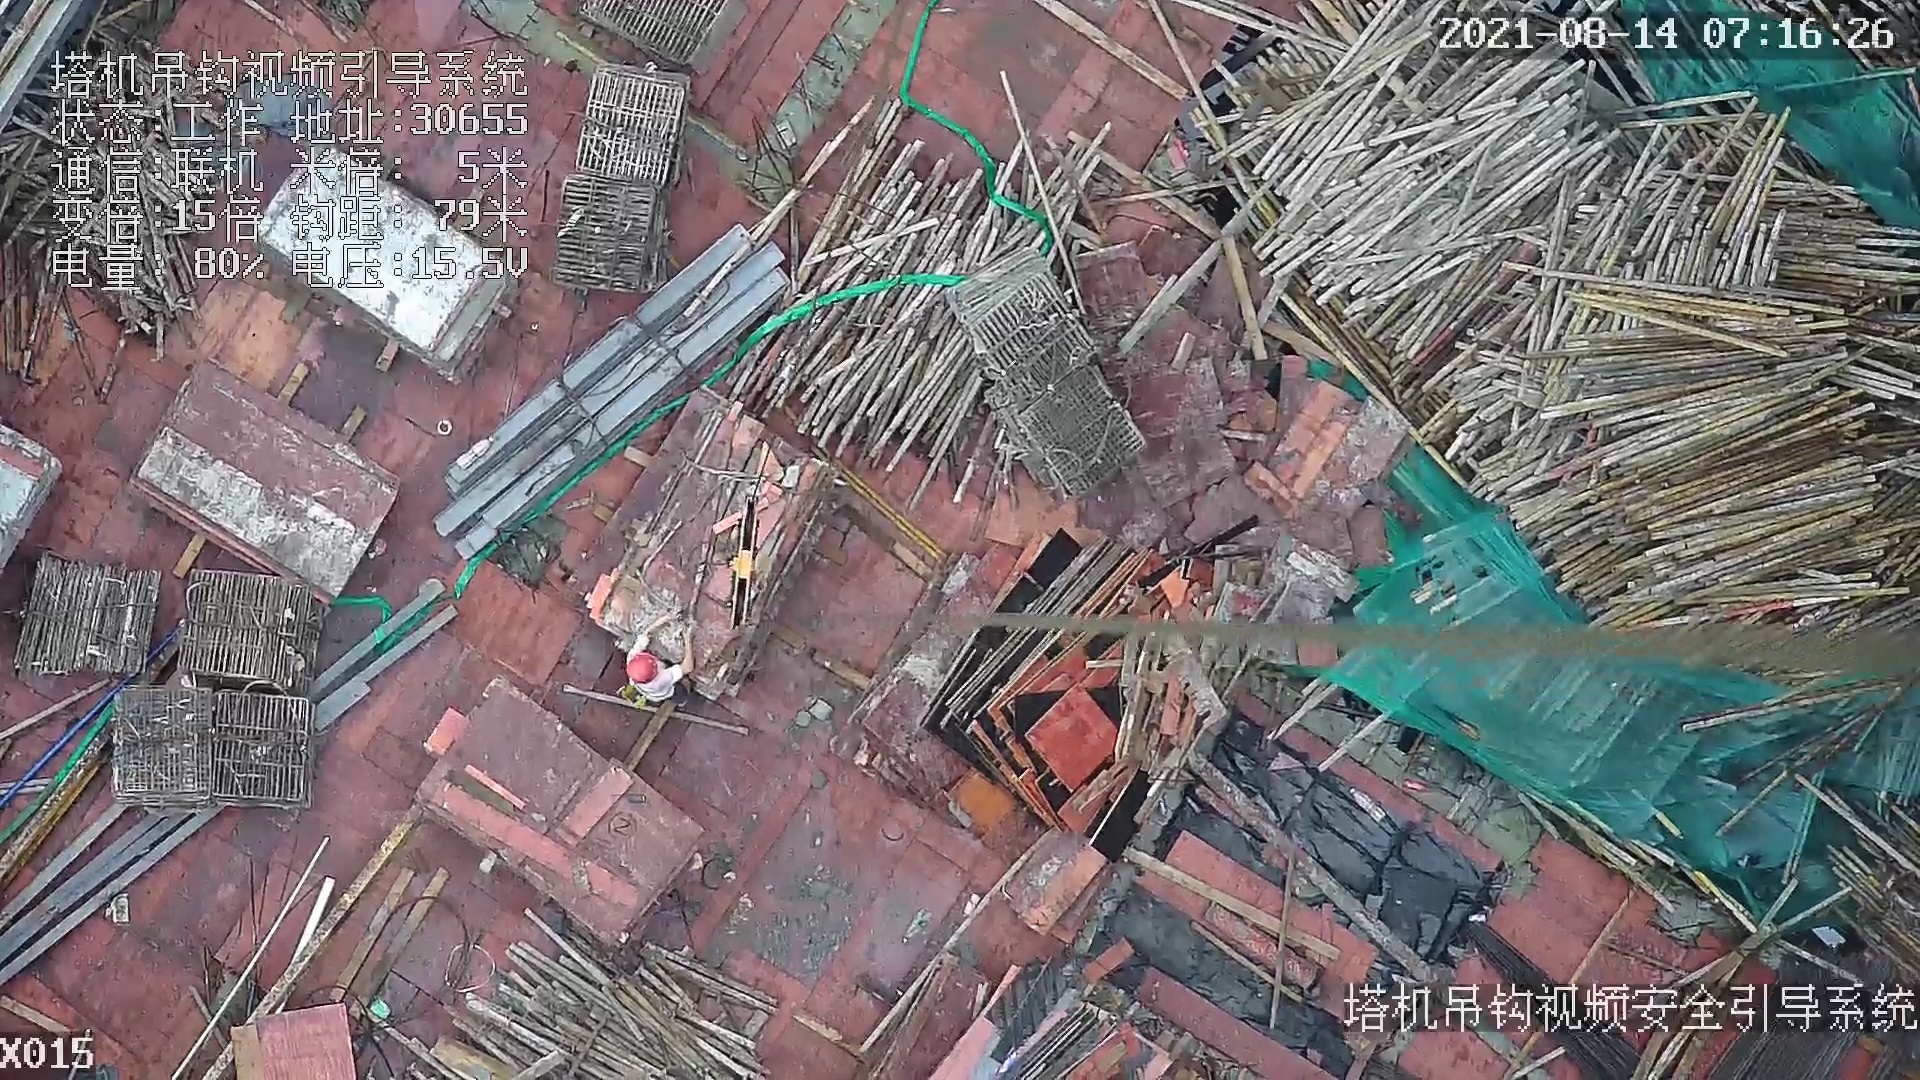helmet: (625, 653, 658, 685)
hook: (724, 494, 762, 635)
person: (626, 604, 708, 709)
